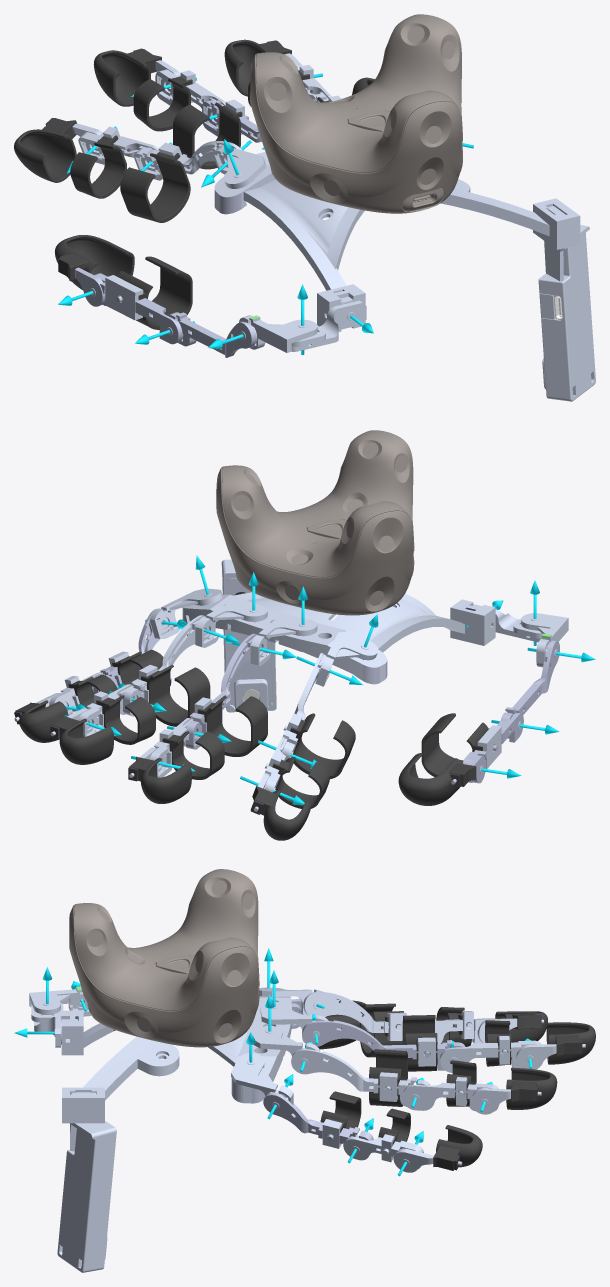
Rendered from revohuman-right-articulated.glb.
3 views of the same model, one above another, from view 1: azimuth 30°, elevation 25°; view 2: azimuth 150°, elevation 25°; view 3: azimuth 270°, elevation 25° (orthographic). The views are drawn at different scales.
Visible parts, largest first — view 1: RH_VIVE_TRACKER_3_0_3D-1, RH_1-1, RH_XIA-KE-1, RH_通用-MCP-2, RH_通用-DIP-1, RH_DIP-拇指R-1, RH_通用-DIP-2, RH_通用-PIP-2, RH_DA-MU-ZHI-GUI-JIAO-2-1, RH_通用-MCP-1, RH_通用-PIP-1, RH_拇指-CM.step-1 (+12 smaller); view 2: RH_VIVE_TRACKER_3_0_3D-1, RH_1-1, RH_通用-MCP-4, RH_DIP-拇指R-1, RH_通用-MCP-1, RH_SHANG-KE-1, RH_通用-DIP-3, RH_通用-DIP-2, RH_通用-PIP-3, RH_通用-MCP-2, RH_DA-MU-ZHI-GUI-JIAO-2-1, RH_通用-DIP-1 (+21 smaller); view 3: RH_VIVE_TRACKER_3_0_3D-1, RH_1-1, RH_XIA-KE-1, RH_10_11-1, RH_中指-MCP-1, RH_通用-DIP-3, RH_通用-DIP-2, RH_10_11-2, RH_尾指-DIP-1, RH_尾指-MCP-1, RH_3-4, RH_11_11-1 (+20 smaller).
Part boxes in pixels (box(x1,y1,x2,y2)): RH_VIVE_TRACKER_3_0_3D-1: box(250, 14, 462, 213); RH_1-1: box(214, 151, 580, 326); RH_XIA-KE-1: box(538, 206, 595, 401); RH_通用-MCP-2: box(120, 152, 190, 222); RH_通用-DIP-1: box(14, 118, 76, 182); RH_DIP-拇指R-1: box(55, 235, 134, 289); RH_通用-DIP-2: box(93, 49, 161, 106); RH_通用-PIP-2: box(70, 135, 126, 198); RH_DA-MU-ZHI-GUI-JIAO-2-1: box(117, 256, 192, 329); RH_通用-MCP-1: box(173, 102, 242, 169); RH_通用-PIP-1: box(133, 76, 192, 131); RH_拇指-CM.step-1: box(167, 312, 256, 357); RH_VIVE_TRACKER_3_0_3D-1: box(216, 430, 414, 615); RH_1-1: box(182, 592, 491, 684); RH_通用-MCP-4: box(141, 664, 210, 726); RH_DIP-拇指R-1: box(398, 753, 476, 805); RH_通用-MCP-1: box(197, 695, 267, 756); RH_SHANG-KE-1: box(227, 578, 272, 708); RH_通用-DIP-3: box(52, 715, 113, 764); RH_通用-DIP-2: box(129, 756, 191, 803); RH_通用-PIP-3: box(96, 695, 155, 744); RH_通用-MCP-2: box(290, 713, 355, 778); RH_DA-MU-ZHI-GUI-JIAO-2-1: box(421, 713, 489, 776); RH_通用-DIP-1: box(250, 786, 310, 840); RH_VIVE_TRACKER_3_0_3D-1: box(69, 869, 259, 1047); RH_1-1: box(62, 996, 292, 1123); RH_XIA-KE-1: box(57, 1092, 116, 1272); RH_10_11-1: box(291, 1049, 430, 1106); RH_中指-MCP-1: box(302, 1020, 465, 1070); RH_通用-DIP-3: box(506, 1067, 557, 1109); RH_通用-DIP-2: box(546, 1022, 595, 1064); RH_10_11-2: box(303, 992, 401, 1032); RH_尾指-DIP-1: box(433, 1125, 482, 1170); RH_尾指-MCP-1: box(263, 1092, 373, 1146); RH_3-4: box(231, 1053, 293, 1104); RH_11_11-1: box(402, 1082, 499, 1111).
Size of the model in its own units: 0.1726 by 0.1213 by 0.2174.
